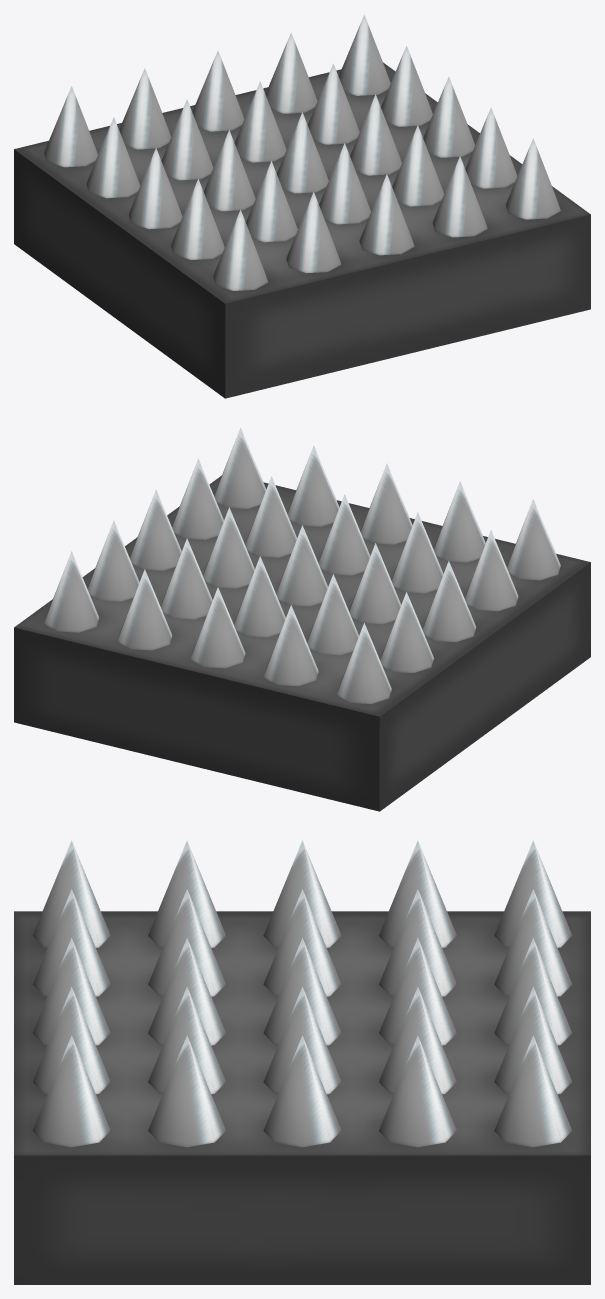
Rendered from trap_kenzan.fbx.
3 renders of one model, top to bottom at view 1: azimuth 30°, elevation 25°; view 2: azimuth 150°, elevation 25°; view 3: azimuth 270°, elevation 25°, orthographic. The views are drawn at different scales.
Visible parts, largest first — view 1: kenzan; view 2: kenzan; view 3: kenzan.
Part boxes in pixels (x1=…): kenzan: x1=14, y1=14, x2=590, y2=398; kenzan: x1=14, y1=427, x2=590, y2=811; kenzan: x1=14, y1=840, x2=590, y2=1284.
Bounding box in the file's own units: 100 × 43.08 × 100.
